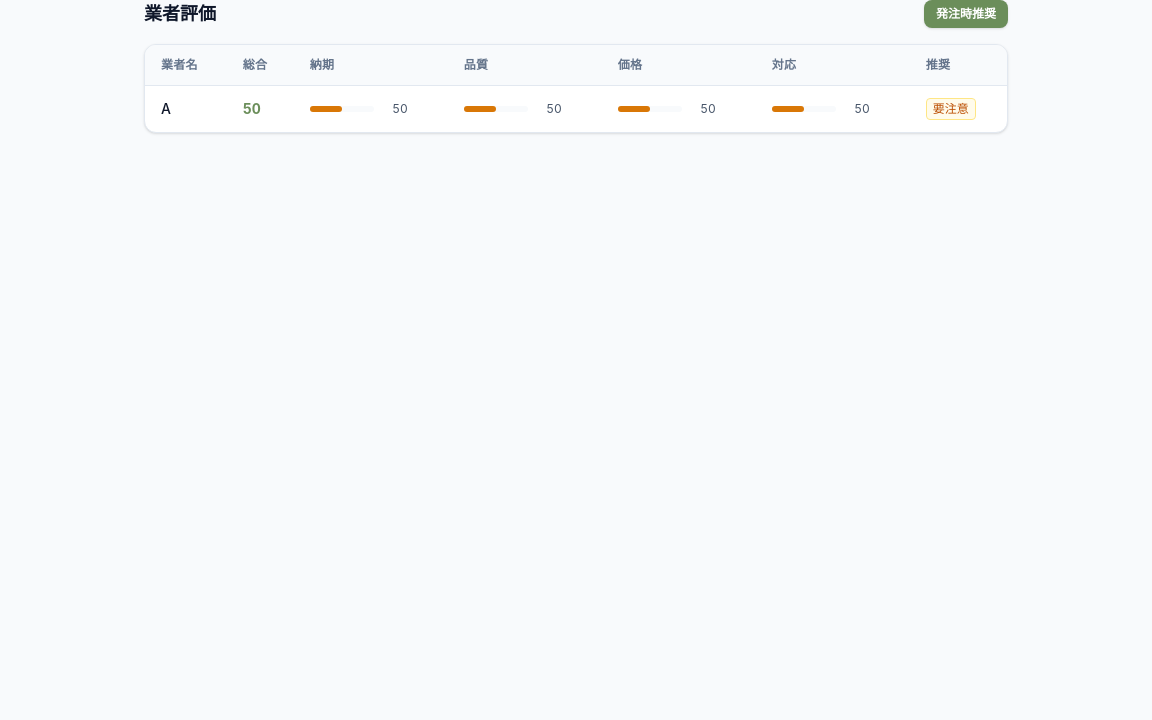
Test: VendorRatingPage › clicking '発注時推奨' opens order modal
Click the button "発注時推奨" at [966, 14], box [924, 0, 1008, 28]
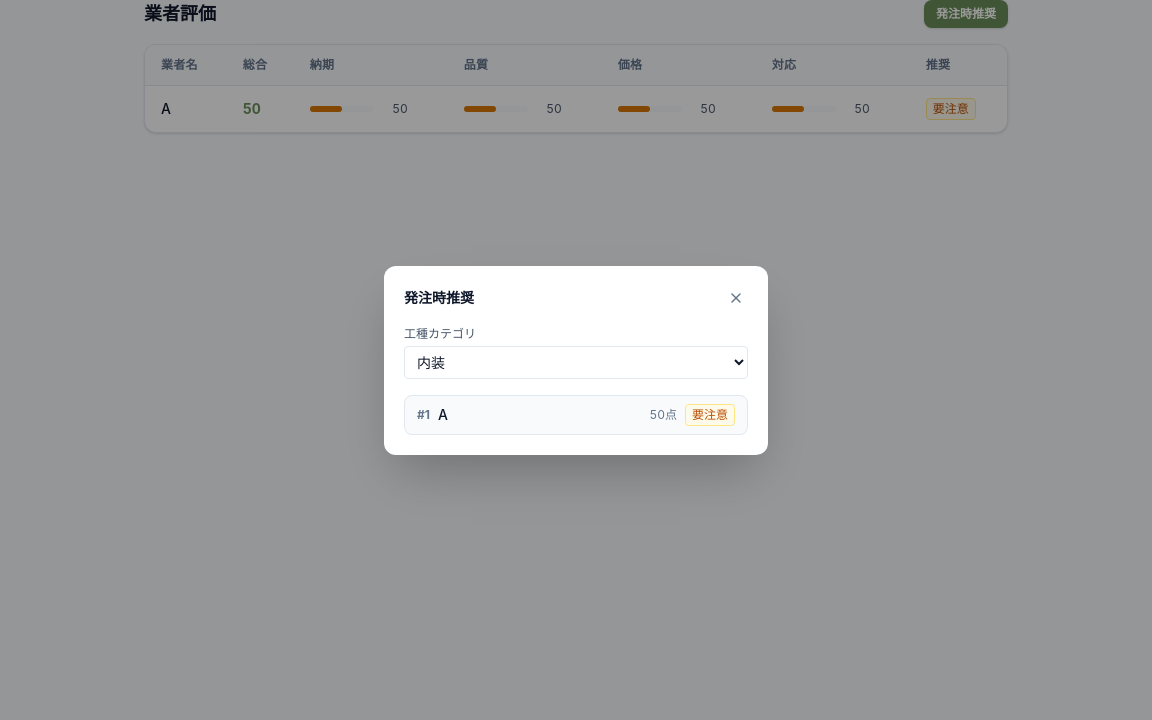
Now the dialog "発注時推奨" is shown
